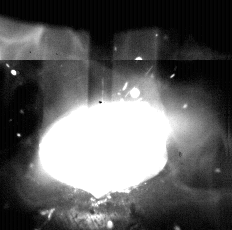arame: (89, 0, 113, 106)
poca: (38, 0, 168, 230)
